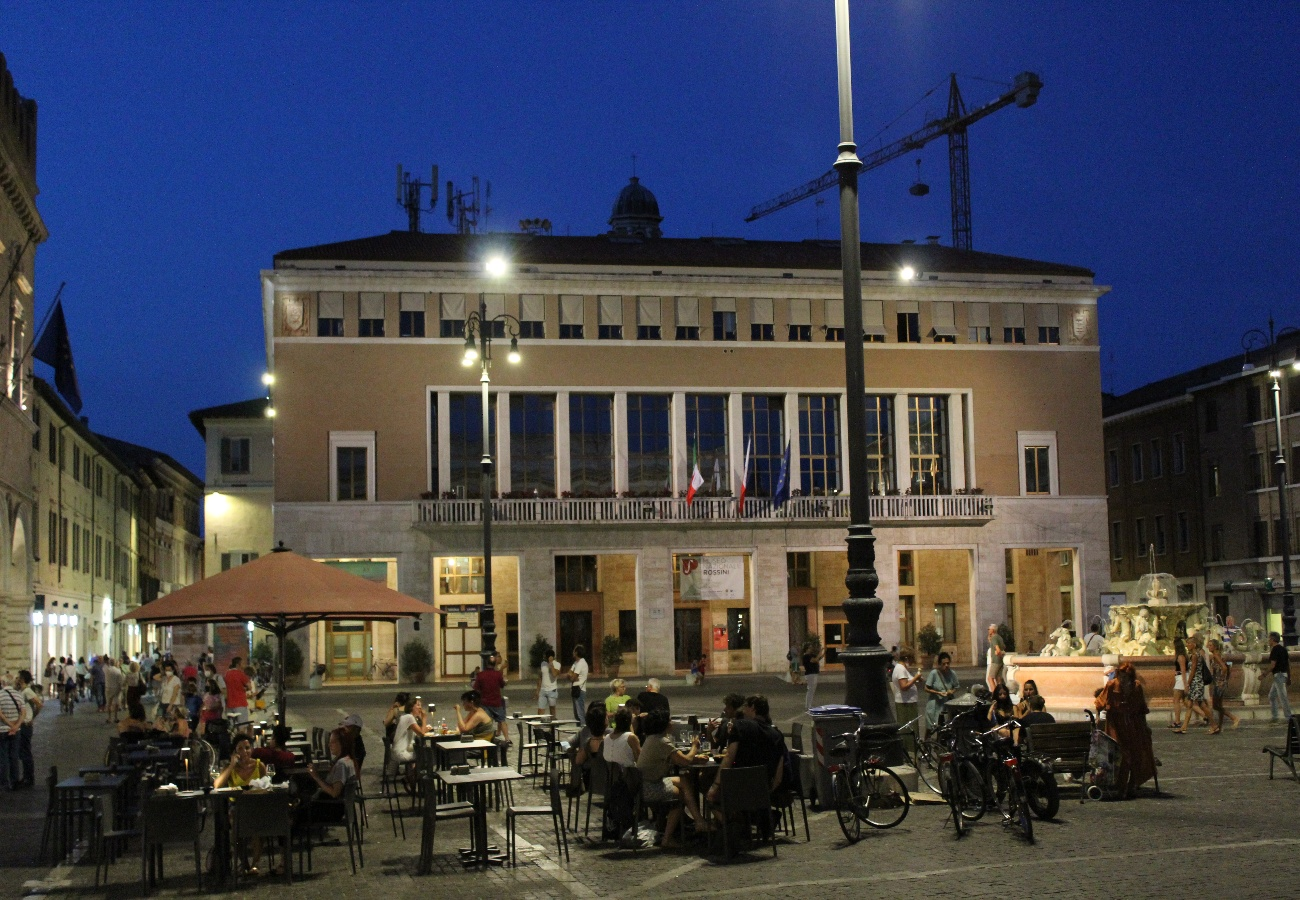Fontana Piazza del Popolo: (1105, 600, 1209, 656)
Palazzo Comunale: (269, 246, 1113, 689)
